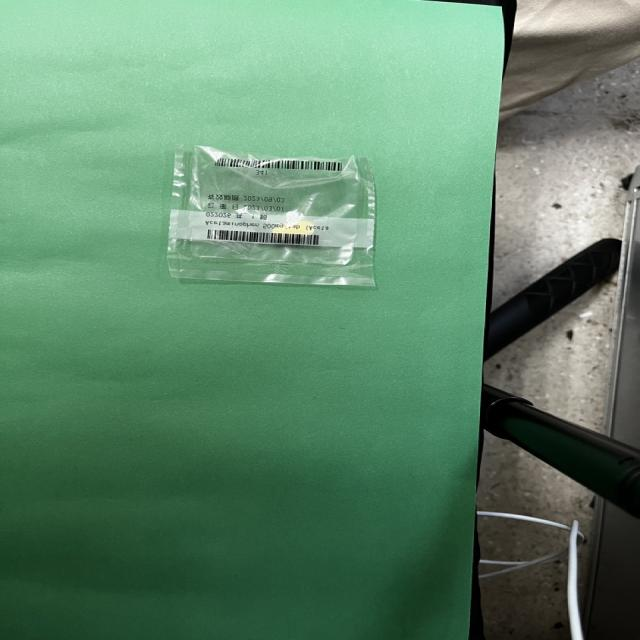Other Objects: (168, 146, 376, 288)
